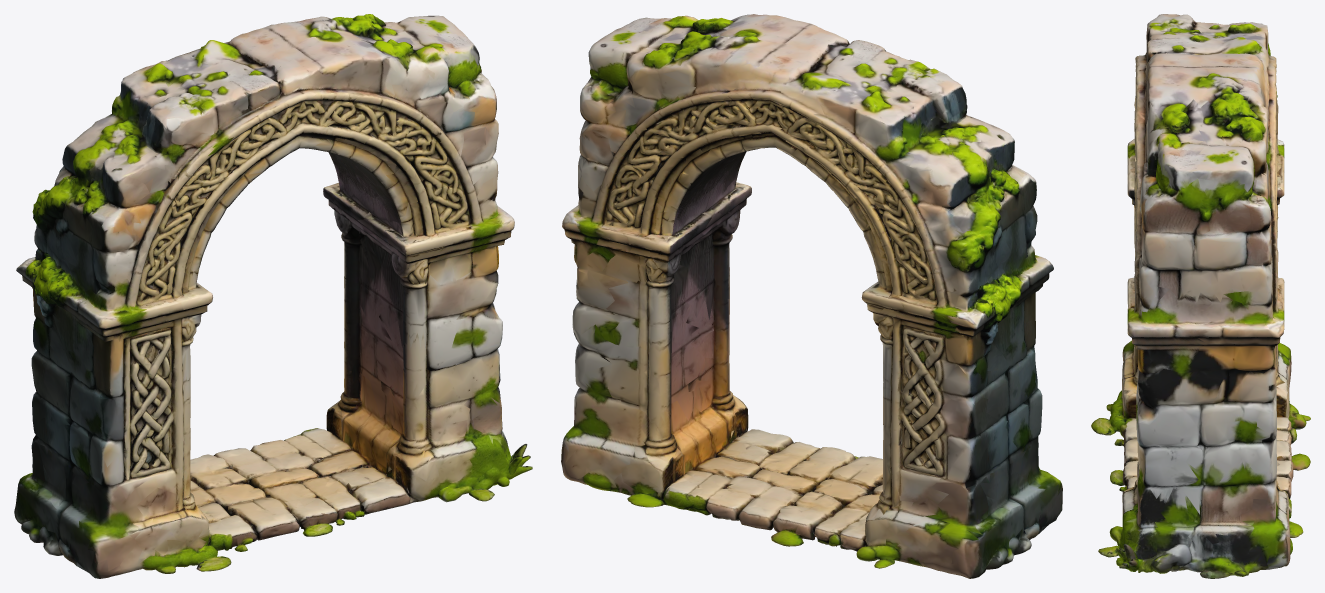
The model's file is Ancient_Archway.glb.
3 views of the same model, side by side, from view 1: azimuth 30°, elevation 25°; view 2: azimuth 150°, elevation 25°; view 3: azimuth 270°, elevation 25° (orthographic). The views are drawn at different scales.
Visible parts, largest first — view 1: Ancient_Archway; view 2: Ancient_Archway; view 3: Ancient_Archway.
Boxes of the visible parts, x1,y1,x2,y2 form: Ancient_Archway: [14, 14, 532, 578]; Ancient_Archway: [561, 14, 1062, 578]; Ancient_Archway: [1091, 14, 1310, 578].
Bounding box in the file's own units: 1.9 × 1.86 × 0.8657.
1 material, 1 textured.
